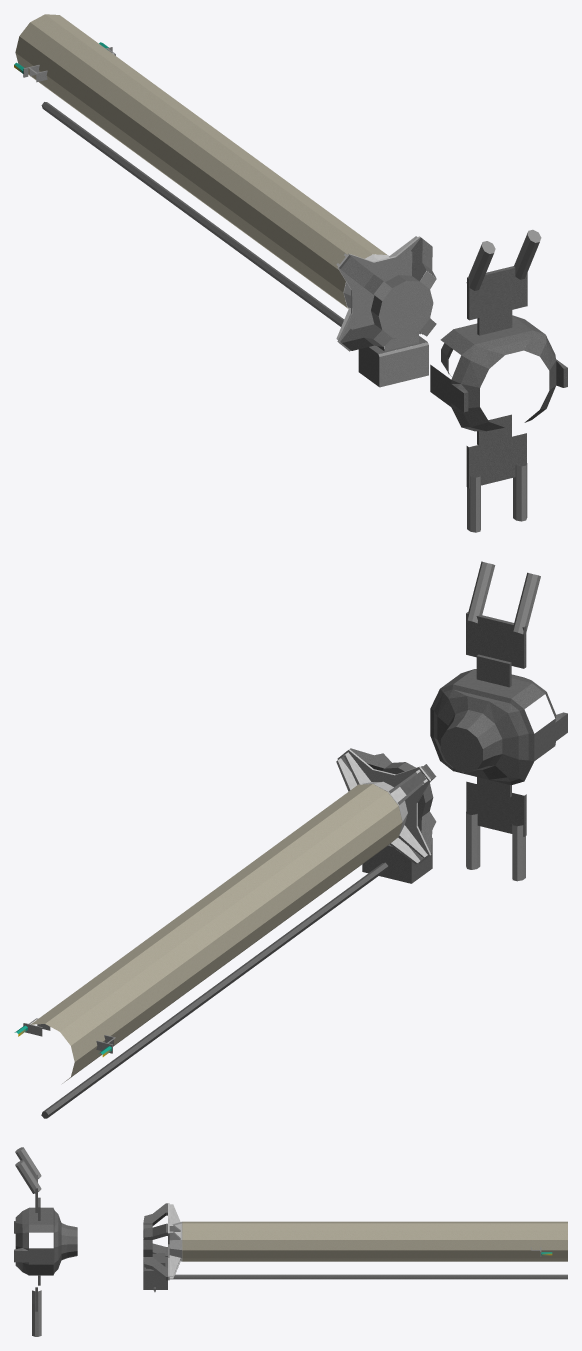
File: ct-11m00000002855818-geode.glb
3 renders of one model, top to bottom at view 1: azimuth 30°, elevation 25°; view 2: azimuth 150°, elevation 25°; view 3: azimuth 270°, elevation 25°, orthographic. The views are drawn at different scales.
Visible parts, largest first — view 1: Node; view 2: Node; view 3: Node.
Boxes of the visible parts, <box> form: Node: <box>14,14,567,532</box>; Node: <box>14,561,567,1118</box>; Node: <box>14,1147,567,1336</box>.
Size of the model in its own units: 0.6214 by 1.69 by 4.87.
5 materials, 5 textured.
